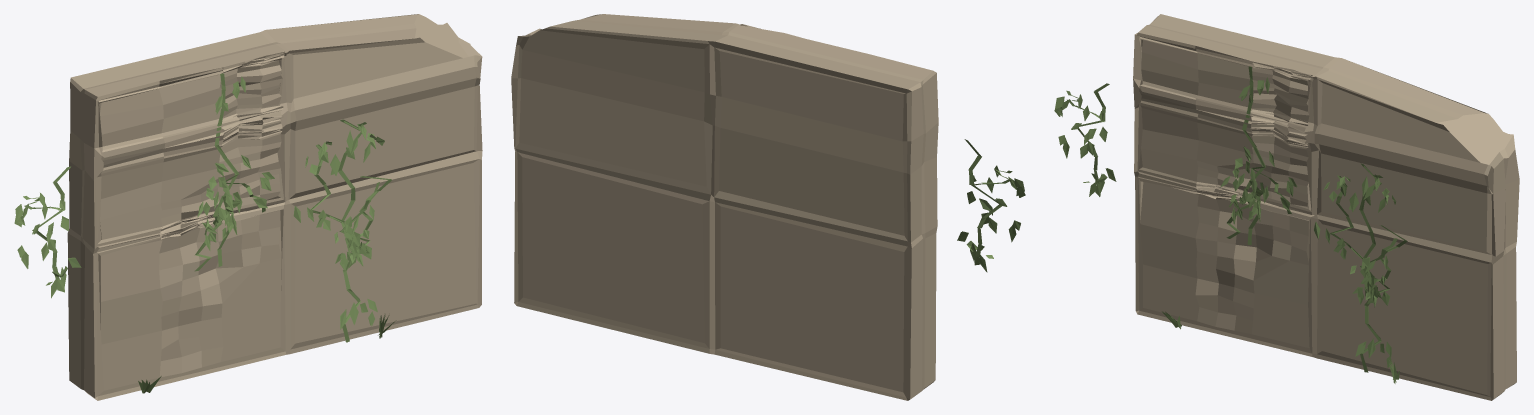
The model's file is SM_Wall_B.fbx.
3 renders of one model, left to right at view 1: azimuth 30°, elevation 25°; view 2: azimuth 150°, elevation 25°; view 3: azimuth 330°, elevation 25°, orthographic. The views are drawn at different scales.
Visible parts, largest first — view 1: SM_Wall_B; view 2: SM_Wall_B; view 3: SM_Wall_B.
Boxes of the visible parts, x1=… form: SM_Wall_B: x1=14, y1=14, x2=482, y2=400; SM_Wall_B: x1=511, y1=14, x2=1025, y2=400; SM_Wall_B: x1=1054, y1=14, x2=1519, y2=400.
Bounding box in the file's own units: 4.9 × 3.07 × 0.7.
